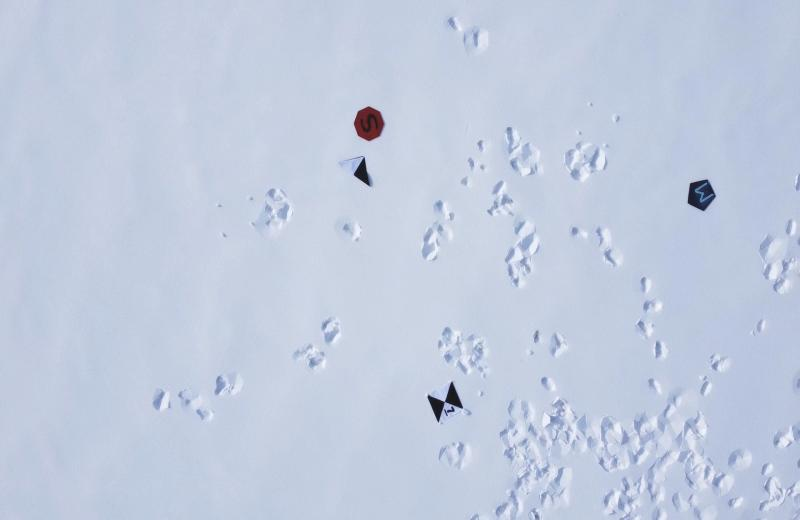Octagon: (351, 104, 385, 146)
Pentagon: (685, 176, 718, 213)
